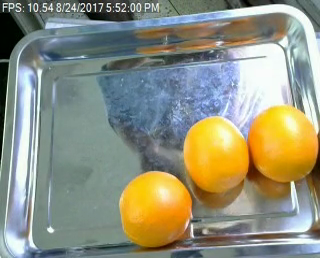Orange: (119, 171, 193, 246), (248, 106, 320, 182), (183, 115, 248, 191)
